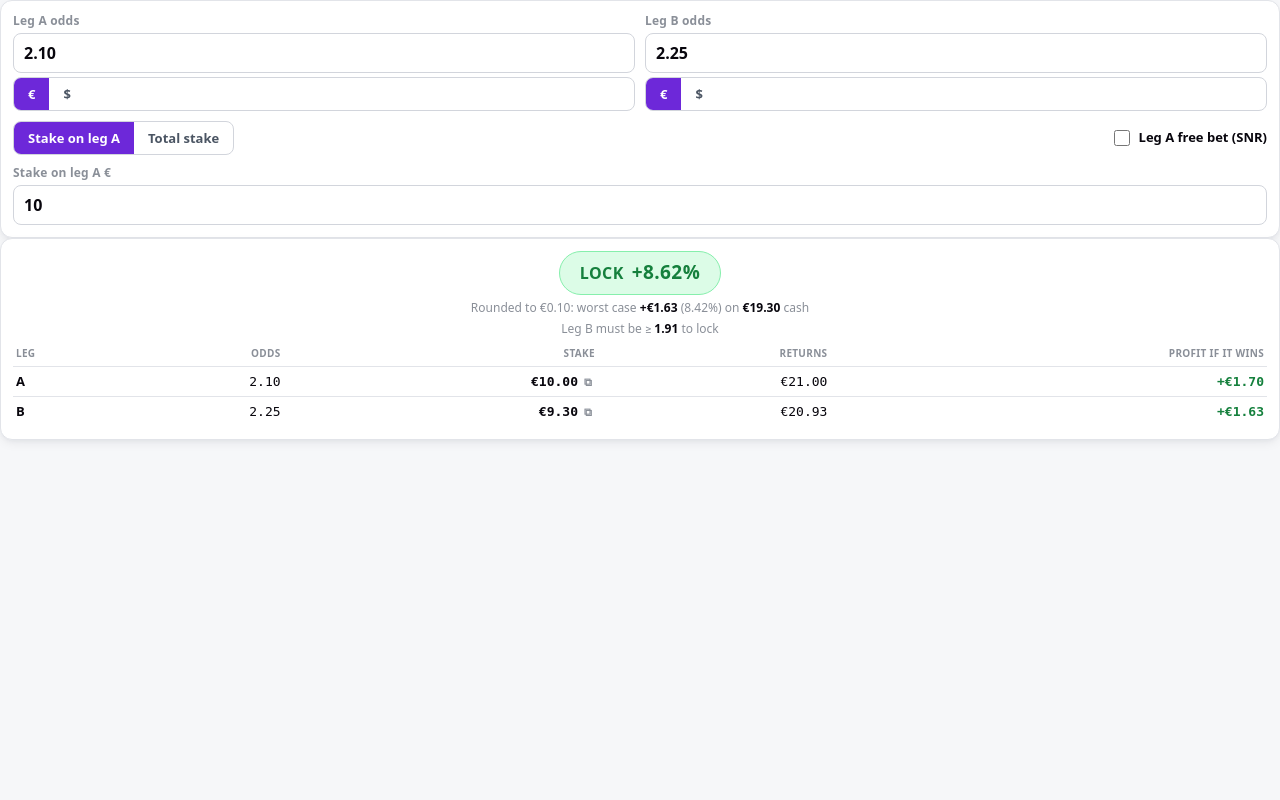
it: DecimalCalc — a leg in dollars (user 2026-11-15: "dollars conversion for cloudbet. input to stay always eur … a toggle") › no usable rate → a hint, and the dollar leg falls back to € sizing
Click the button named "Leg B in dollars" at point(699, 94), box [681, 78, 717, 110]
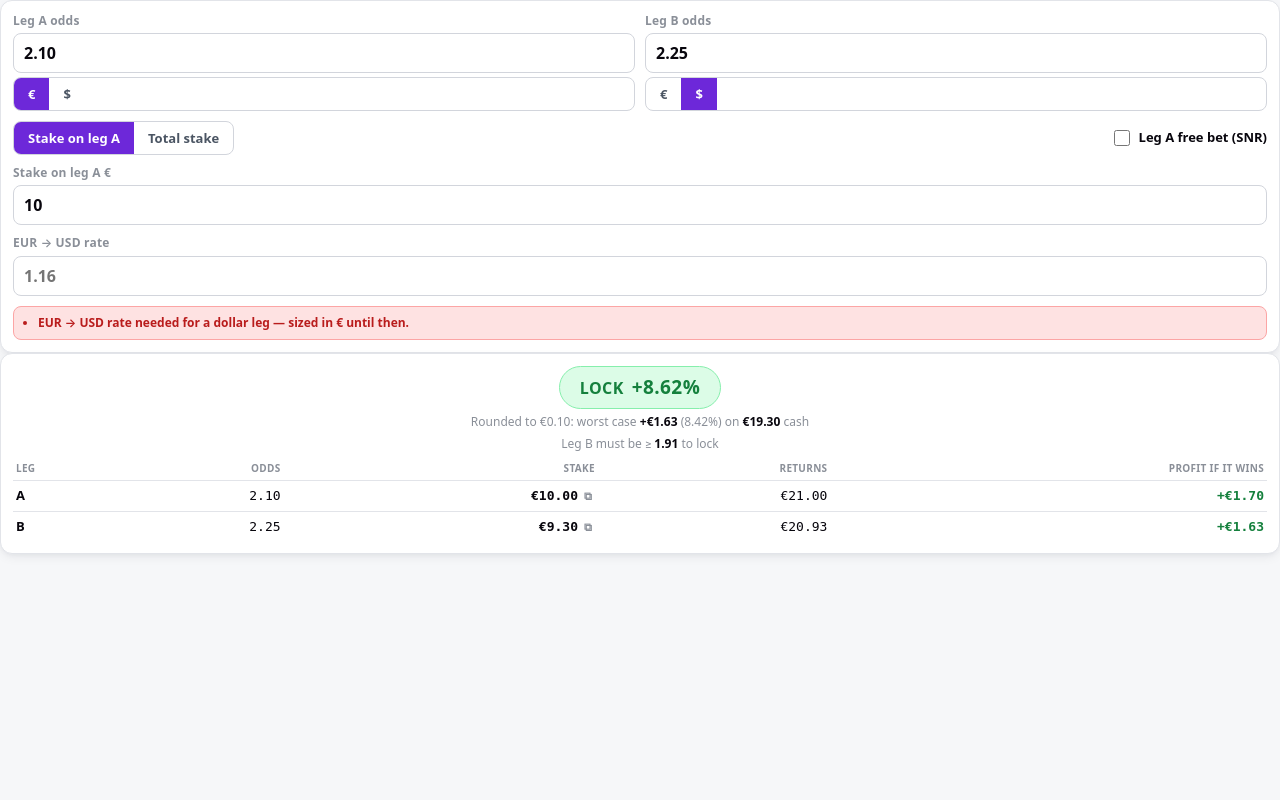
Expected: the element with test id "decimal-result" shows "€9.30", [0, 353, 1279, 554]
Expected: the list item "EUR → USD rate needed" is shown, [38, 314, 409, 331]
